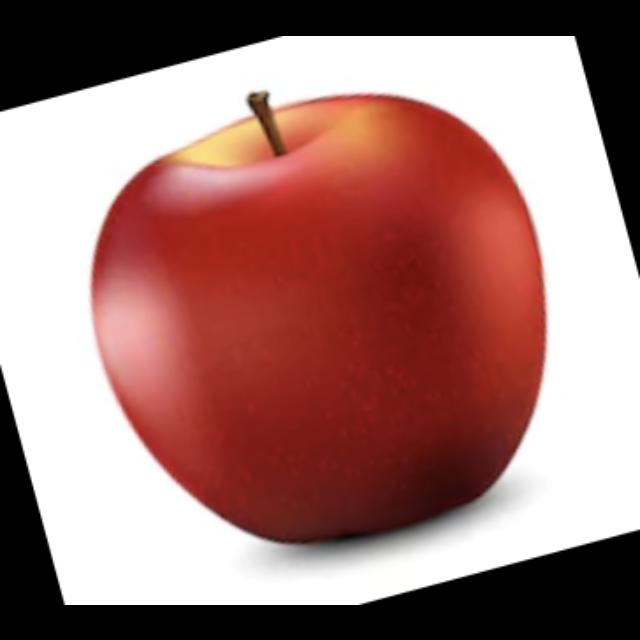Apel Segar: (89, 101, 546, 541)
